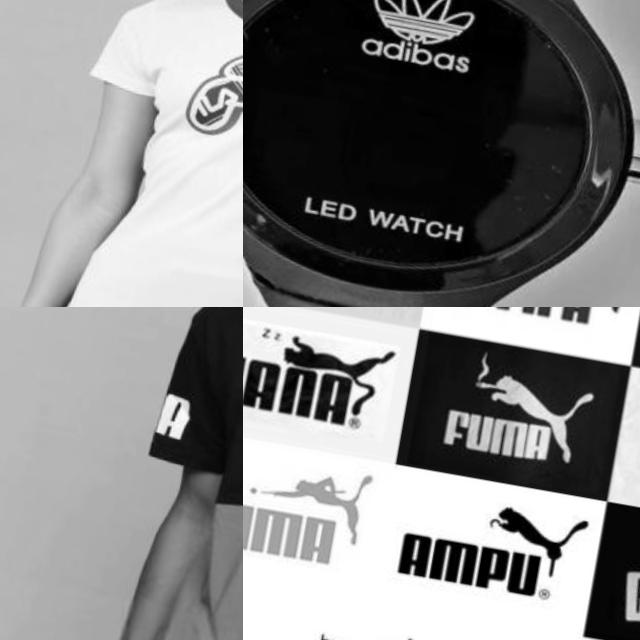ADIDAS_fake: (321, 0, 512, 86)
FILA_original: (179, 23, 243, 166)
PUMA_fake: (424, 342, 622, 481), (387, 482, 601, 608), (243, 307, 406, 446), (243, 437, 391, 585), (446, 307, 640, 342)
